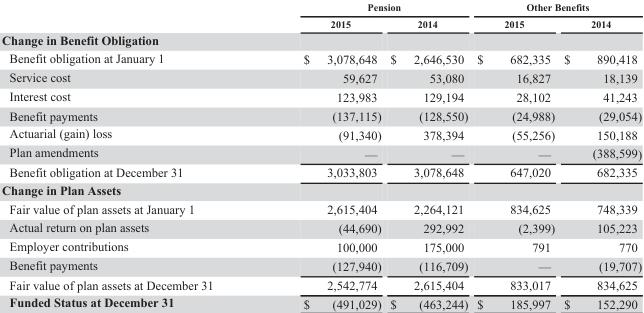table: (1, 1, 641, 310)
table column: (1, 1, 257, 310), (257, 1, 385, 310), (471, 1, 558, 310), (385, 1, 471, 310), (558, 1, 641, 310)
table column header: (1, 1, 641, 30)
table projected row header: (1, 30, 641, 48), (1, 181, 641, 199)
table row: (1, 255, 641, 275), (1, 48, 641, 67), (1, 67, 641, 86), (1, 86, 641, 105), (1, 105, 641, 124), (1, 124, 641, 143), (1, 143, 641, 162), (1, 162, 641, 181), (1, 217, 641, 236), (1, 236, 641, 255), (1, 30, 641, 48), (1, 181, 641, 199), (1, 199, 641, 217), (1, 275, 641, 293), (1, 293, 641, 310), (1, 15, 641, 30), (1, 1, 641, 15)
table spanning cell: (257, 1, 471, 15), (471, 1, 641, 15)
